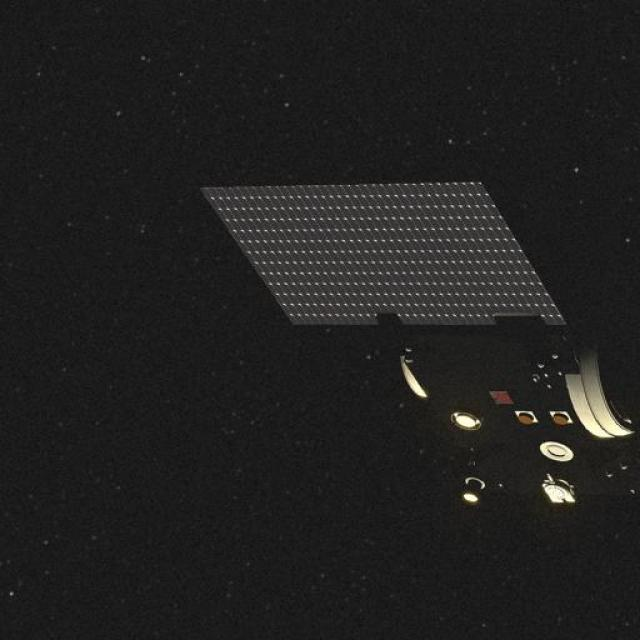proba_3_csc: (192, 157, 633, 514)
